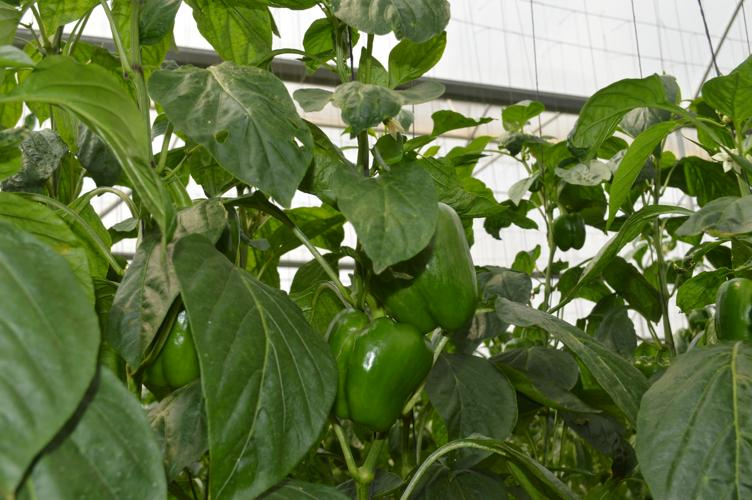BellPepper: (364, 201, 478, 332), (320, 312, 431, 431), (142, 311, 202, 388), (705, 278, 751, 345)
